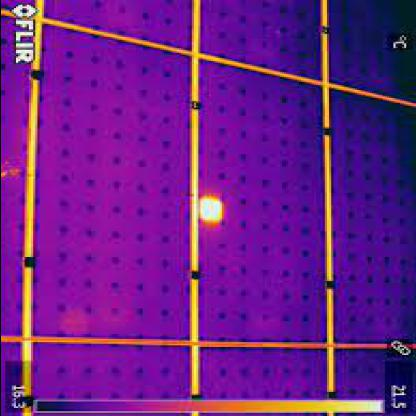Defects: (196, 190, 232, 226)
